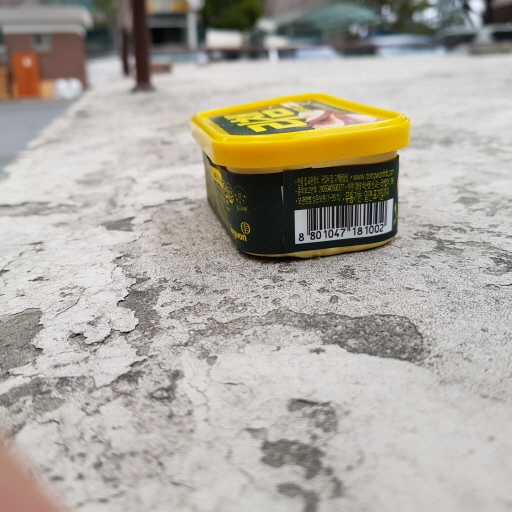Metal_2: (188, 89, 418, 261)
